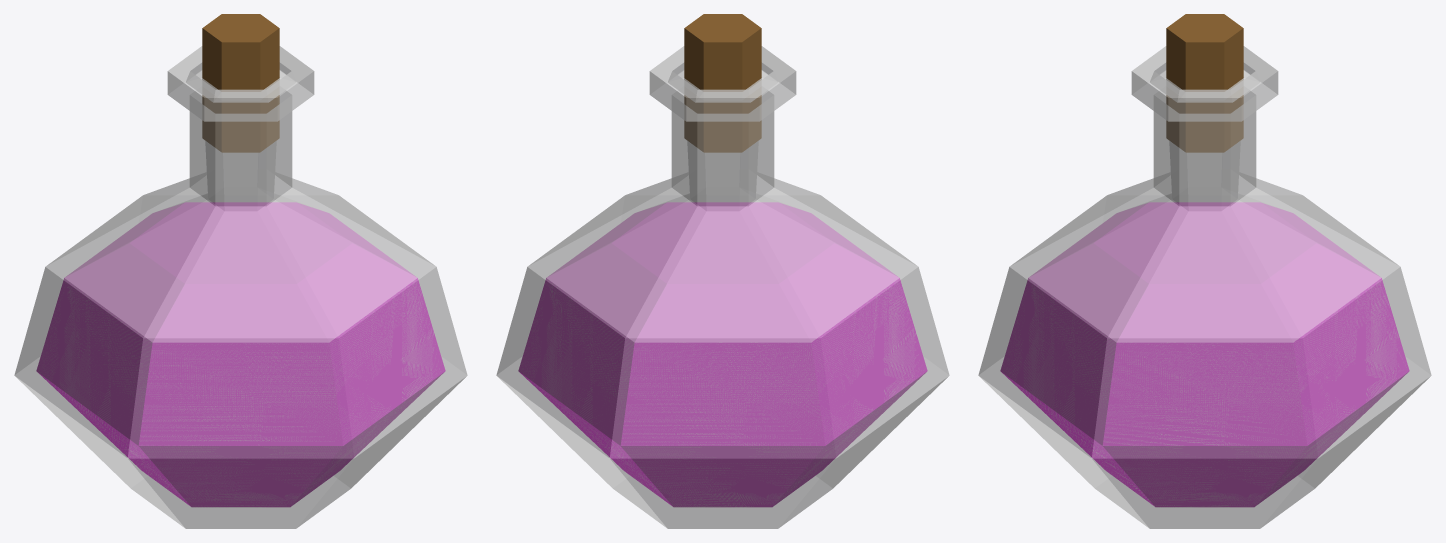
File: MiningPotion.fbx
3 views of the same model, side by side, from view 1: azimuth 30°, elevation 25°; view 2: azimuth 150°, elevation 25°; view 3: azimuth 270°, elevation 25° (orthographic).
Parts seen in each view (by area): view 1: Bottle, Liquid, Cork; view 2: Bottle, Liquid, Cork; view 3: Bottle, Liquid, Cork.
Boxes of the visible parts, x1,y1,x2,y2 form: Bottle: [14, 46, 467, 528]; Liquid: [36, 202, 445, 507]; Cork: [202, 14, 279, 152]; Bottle: [496, 46, 949, 528]; Liquid: [518, 202, 927, 507]; Cork: [684, 14, 761, 152]; Bottle: [978, 46, 1431, 528]; Liquid: [1000, 202, 1409, 507]; Cork: [1166, 14, 1243, 152].
Size of the model in its own units: 64.18 by 83.06 by 74.1.
